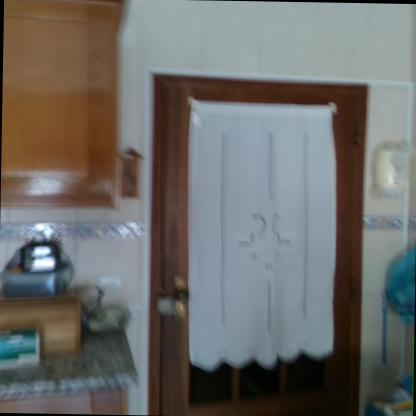closed: (124, 72, 378, 416)
